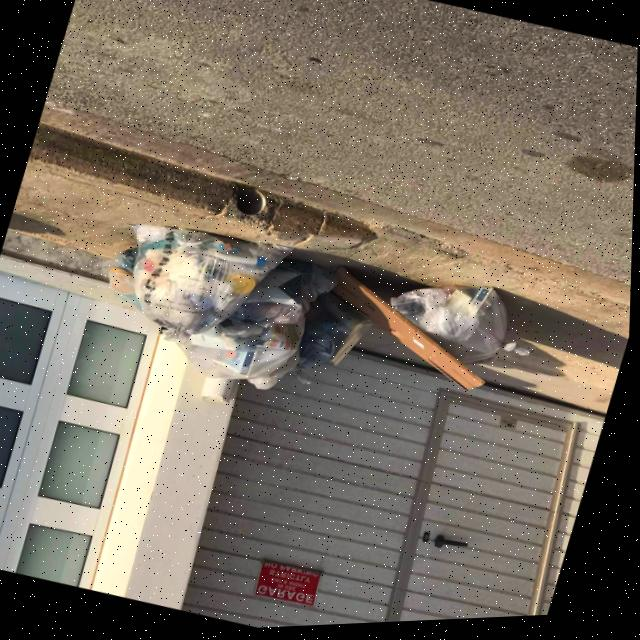Other: (310, 261, 511, 404)
Recycled Waste -Grey or Green Bag-: (86, 211, 349, 409), (109, 210, 294, 368), (377, 264, 552, 388), (287, 287, 383, 400)
